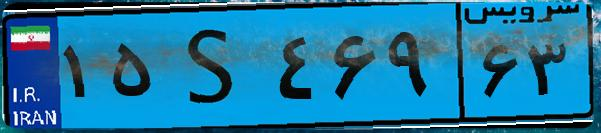1: (57, 26, 110, 100)
3: (525, 38, 570, 115)
4: (270, 28, 330, 110)
5: (110, 28, 158, 98)
6: (330, 28, 385, 110), (475, 38, 525, 113)
9: (385, 28, 445, 110)
S: (158, 12, 270, 120)
